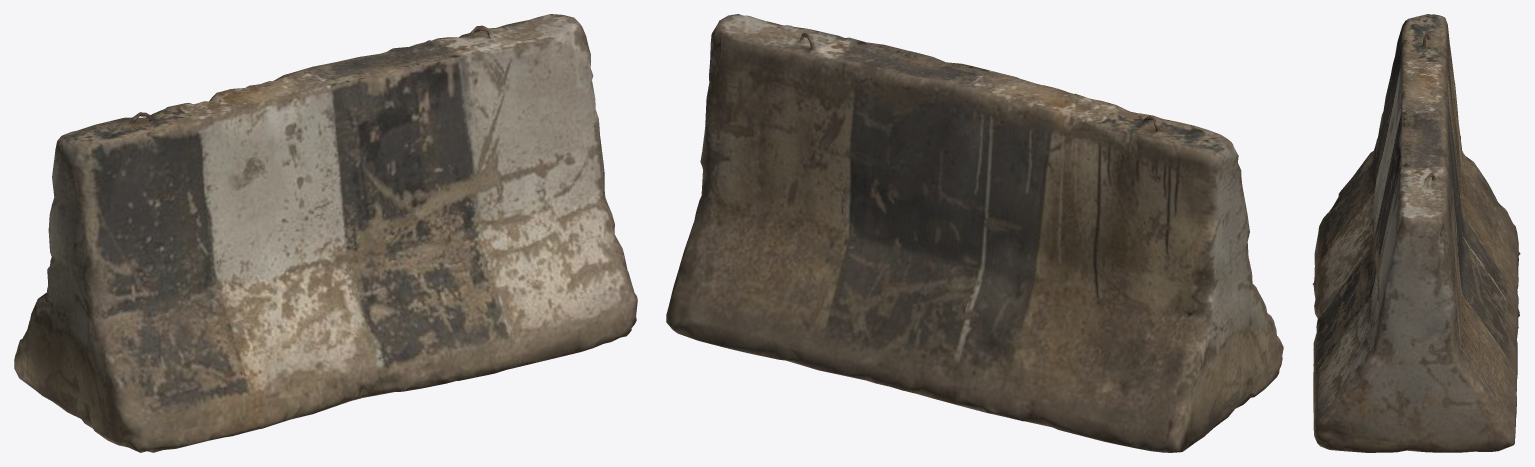
The model's file is p_concrete_road_barrier.glb.
The picture shows the model from 3 angles, left to right: view 1: azimuth 30°, elevation 25°; view 2: azimuth 150°, elevation 25°; view 3: azimuth 270°, elevation 25°; orthographic projection. The views are drawn at different scales.
Visible parts, largest first — view 1: concrete_road_barrier; view 2: concrete_road_barrier; view 3: concrete_road_barrier.
Part boxes in pixels (x1=…): concrete_road_barrier: x1=14, y1=14, x2=637, y2=452; concrete_road_barrier: x1=666, y1=14, x2=1283, y2=452; concrete_road_barrier: x1=1312, y1=14, x2=1520, y2=452.
Size of the model in its own units: 1.54 by 0.8304 by 0.6387.
Materials: 1 (1 with a texture image).
